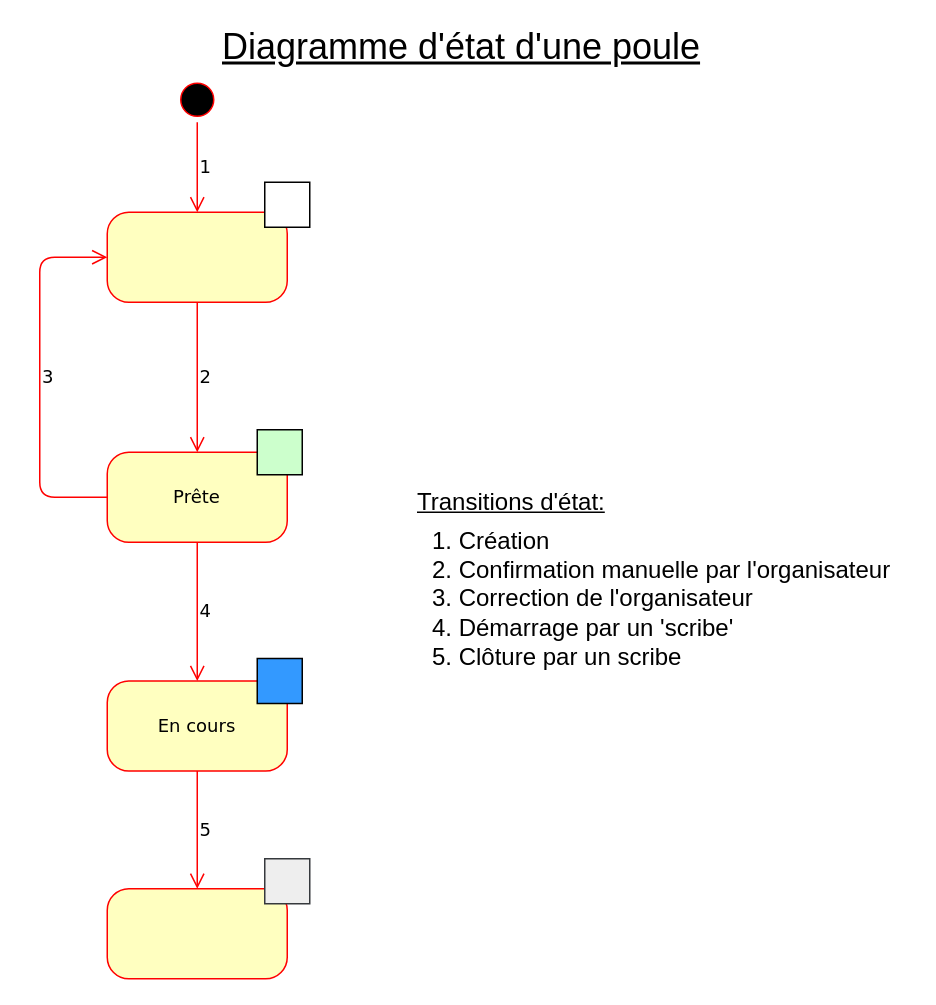
The diagram is 936 pixels wide and 1005 high, and some of its shapes have lost their labels. Here are the shapes that lost their labels. From the top down, the centre of each, then its label:
At point (196, 256): "En préparation".
At point (196, 933): "Terminée".
